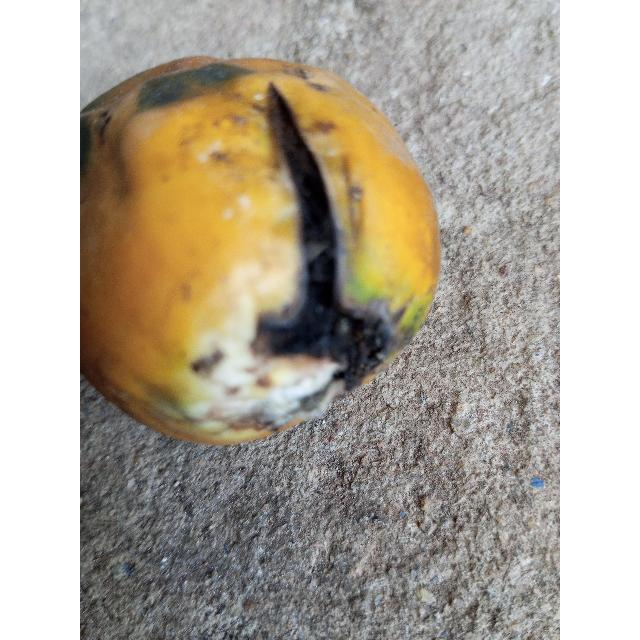damaged: (80, 57, 441, 449)
